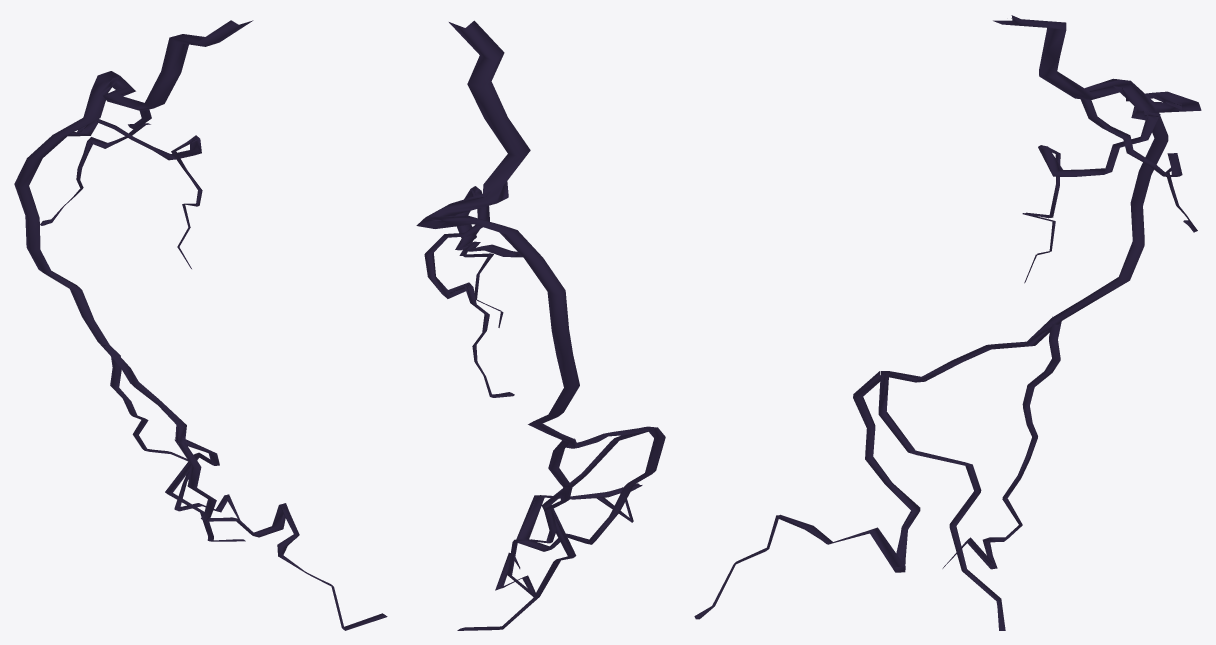
Rendered from lightning_fork_ink.glb.
3 views of the same model, side by side, from view 1: azimuth 30°, elevation 25°; view 2: azimuth 150°, elevation 25°; view 3: azimuth 270°, elevation 25° (orthographic). The views are drawn at different scales.
Visible parts, largest first — view 1: lightning_fork_ink; view 2: lightning_fork_ink; view 3: lightning_fork_ink.
Boxes of the visible parts, bbox=[...] form: lightning_fork_ink: bbox=[14, 20, 387, 630]; lightning_fork_ink: bbox=[416, 20, 665, 630]; lightning_fork_ink: bbox=[694, 15, 1201, 630].
Size of the model in its own units: 1.39 by 4.02 by 3.02.
